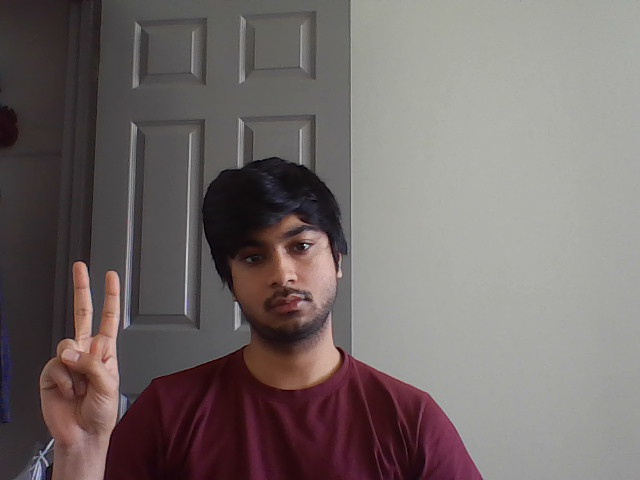two: (58, 254, 131, 364)
